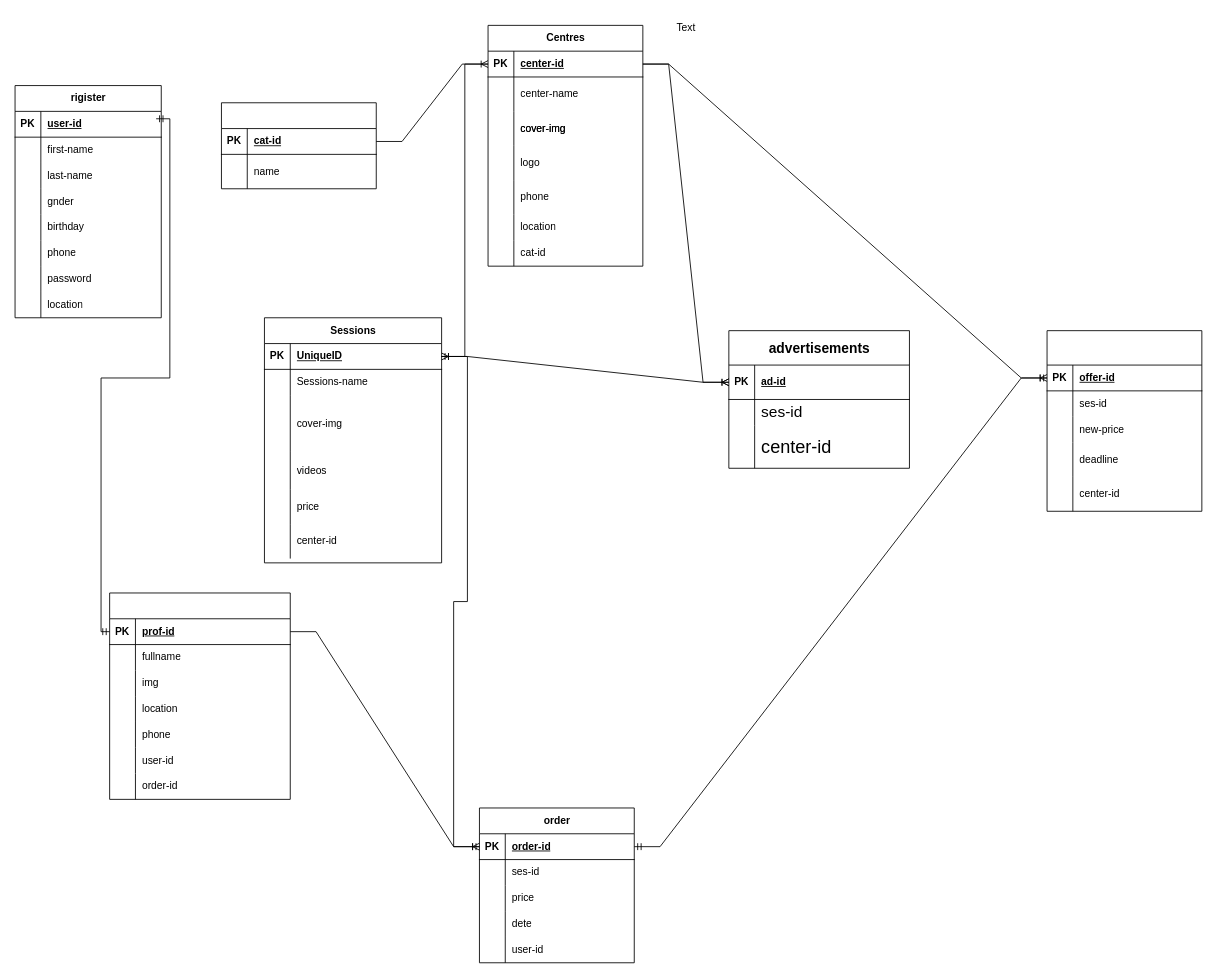
Image size: 1217x978. Some labels were removed from this diagram. Each missing label, with the box of its shape:
catogres: (221, 102, 376, 189)
Offers: (1046, 330, 1202, 511)
profile: (109, 592, 290, 799)
